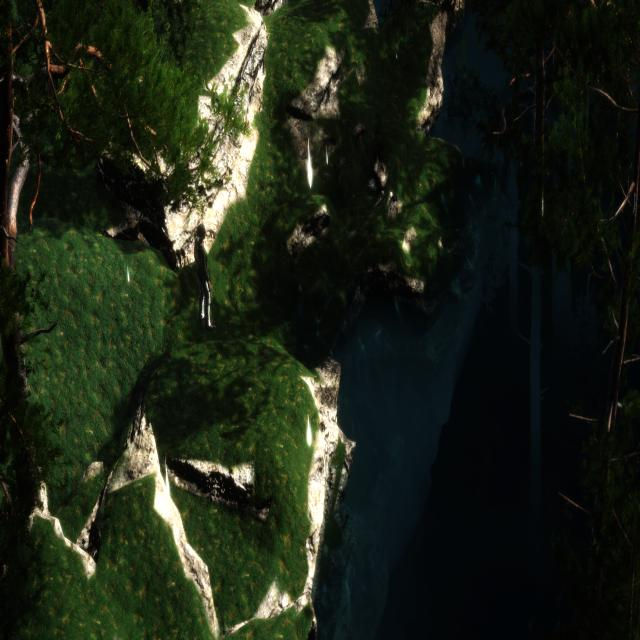Human: (193, 224, 214, 332)
